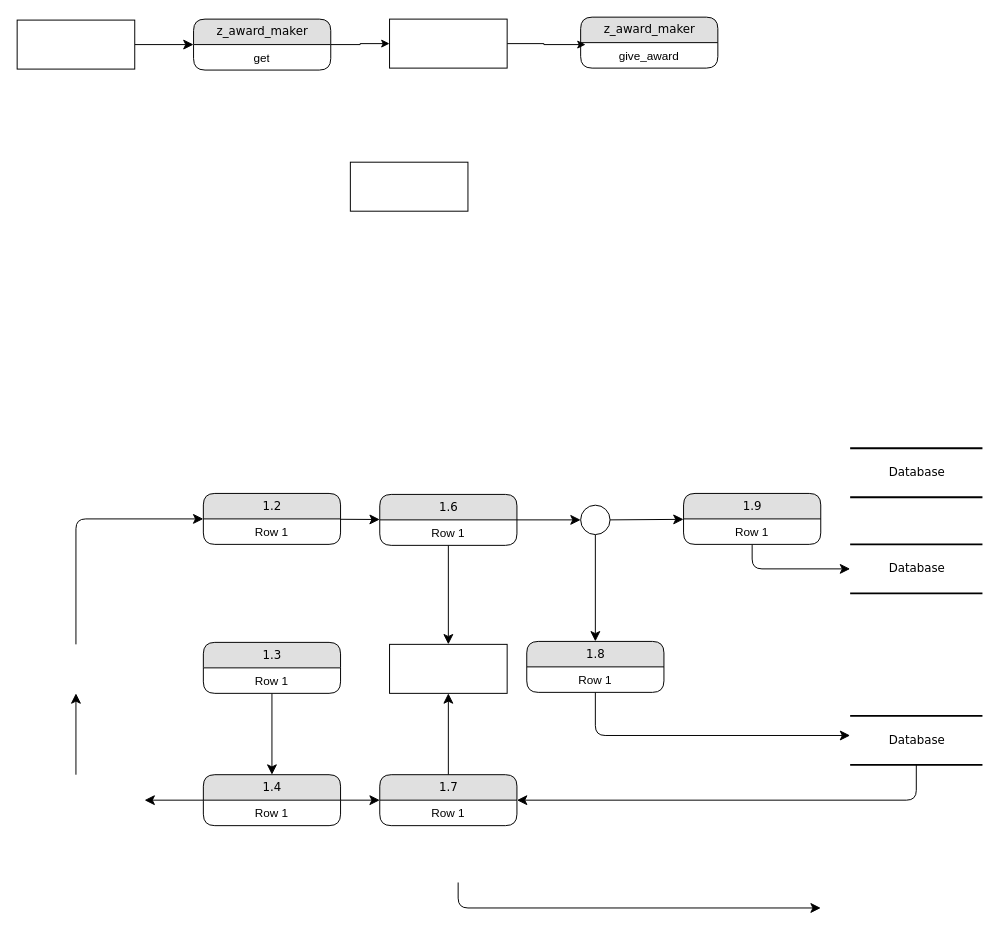
This 1001x935 diagram has some shape labels left out. Each missing label, with the centre of its shape:
AwardInfo: (75,44)
Awards: (448,43)
Object: (448,668)
Output: (408,186)
